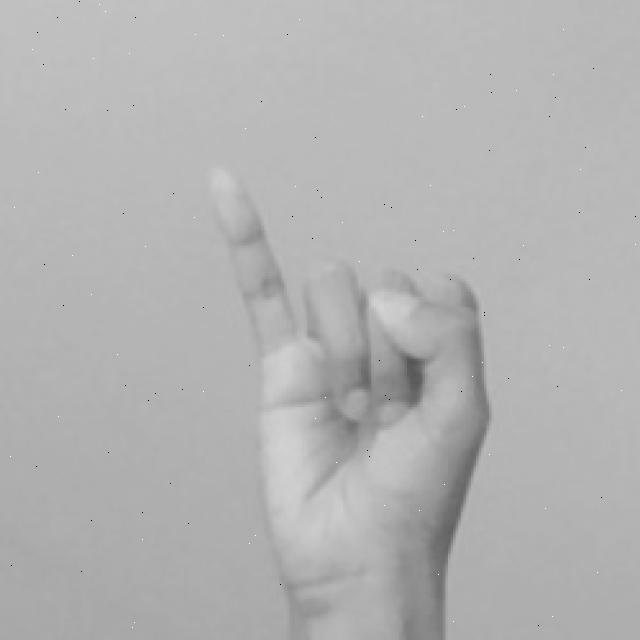I: (204, 164, 496, 640)
